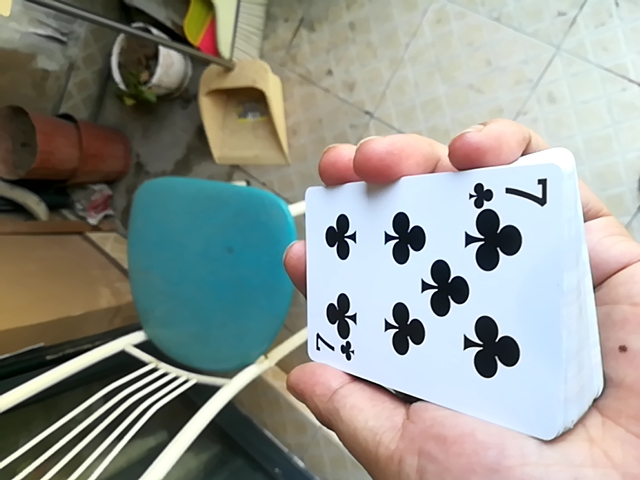mh 7: (294, 148, 595, 439)
